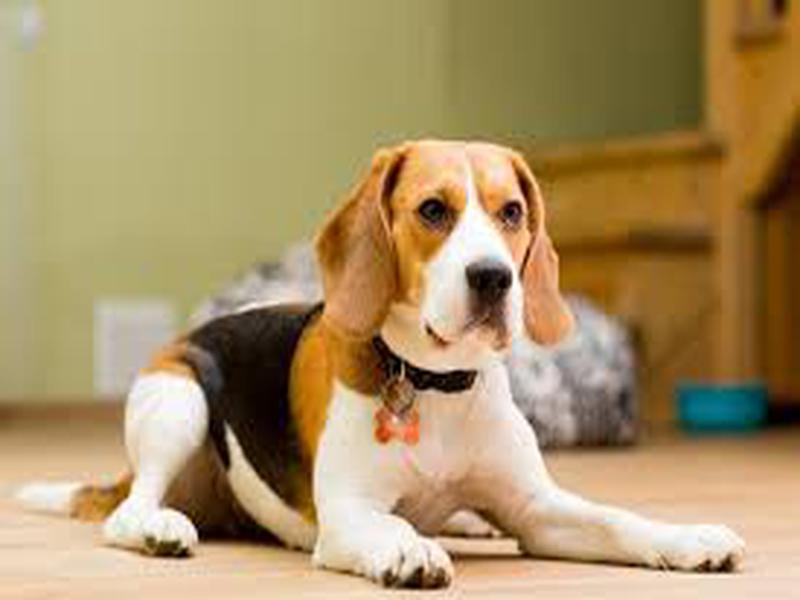dog_down: (15, 140, 745, 593)
